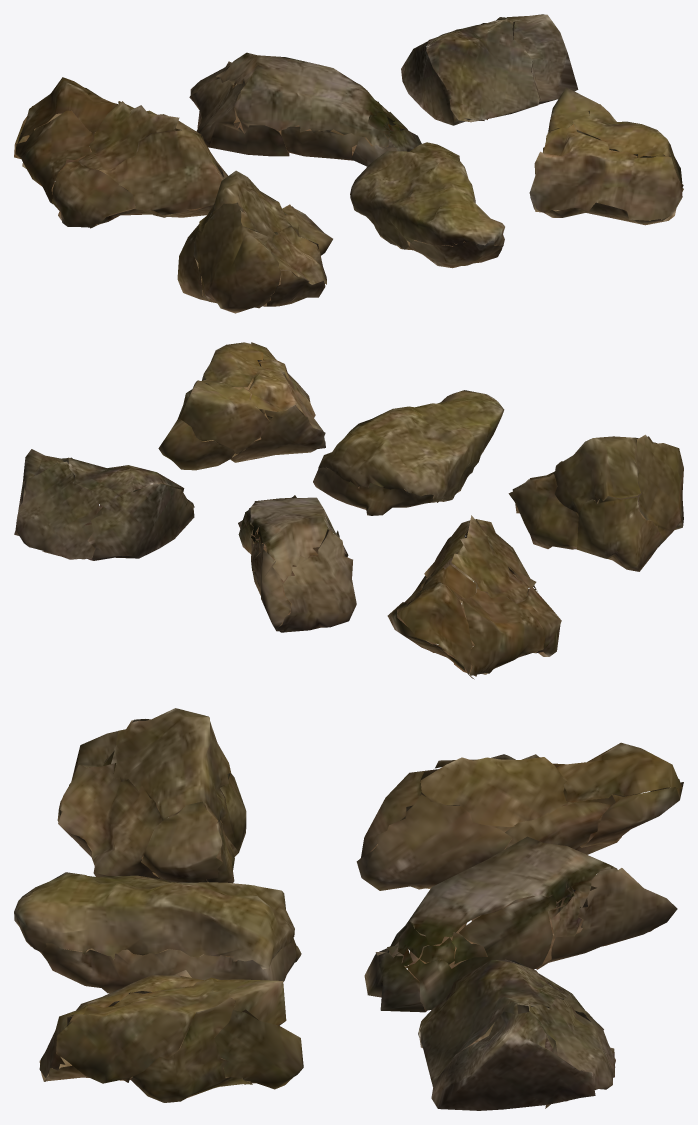
File: rock_moss_set_01.glb
3 renders of one model, top to bottom at view 1: azimuth 30°, elevation 25°; view 2: azimuth 150°, elevation 25°; view 3: azimuth 270°, elevation 25°, orthographic. The views are drawn at different scales.
Parts seen in each view (by area): view 1: rock_moss_set_01_rock01, rock_moss_set_01_rock02, rock_moss_set_01_rock06, rock_moss_set_01_rock04, rock_moss_set_01_rock03, rock_moss_set_01_rock05; view 2: rock_moss_set_01_rock04, rock_moss_set_01_rock01, rock_moss_set_01_rock05, rock_moss_set_01_rock03, rock_moss_set_01_rock06, rock_moss_set_01_rock02; view 3: rock_moss_set_01_rock01, rock_moss_set_01_rock02, rock_moss_set_01_rock05, rock_moss_set_01_rock04, rock_moss_set_01_rock06, rock_moss_set_01_rock03.
Boxes of the visible parts, x1,y1,x2,y2 form: rock_moss_set_01_rock01: [14, 77, 227, 228]; rock_moss_set_01_rock02: [189, 52, 421, 166]; rock_moss_set_01_rock06: [529, 87, 683, 225]; rock_moss_set_01_rock04: [177, 170, 332, 313]; rock_moss_set_01_rock03: [401, 14, 578, 125]; rock_moss_set_01_rock05: [350, 142, 504, 268]; rock_moss_set_01_rock04: [508, 434, 683, 571]; rock_moss_set_01_rock01: [387, 515, 561, 679]; rock_moss_set_01_rock05: [313, 390, 504, 515]; rock_moss_set_01_rock03: [14, 449, 194, 560]; rock_moss_set_01_rock06: [158, 342, 325, 470]; rock_moss_set_01_rock02: [238, 495, 356, 632]; rock_moss_set_01_rock01: [356, 742, 683, 890]; rock_moss_set_01_rock02: [364, 836, 677, 1012]; rock_moss_set_01_rock05: [14, 872, 301, 993]; rock_moss_set_01_rock04: [57, 708, 246, 883]; rock_moss_set_01_rock06: [39, 970, 303, 1102]; rock_moss_set_01_rock03: [418, 959, 615, 1110].
Bounding box in the file's own units: 7.96 × 1.78 × 6.97.
1 material, 1 textured.
